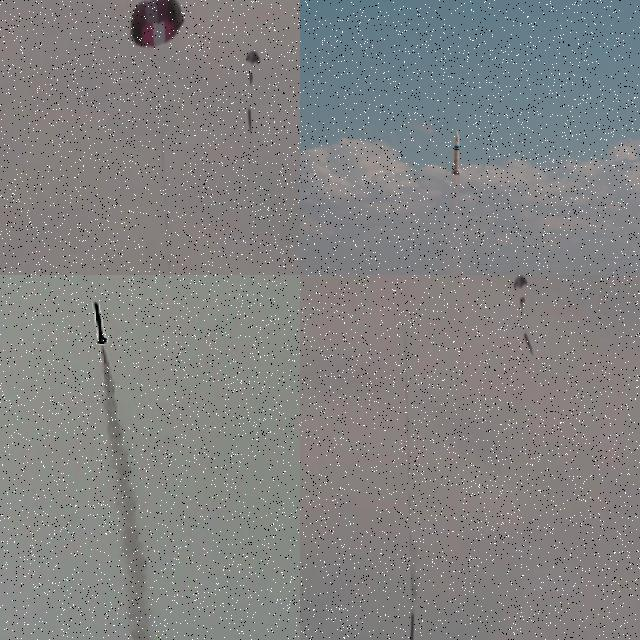Rocket: (446, 130, 467, 176), (92, 300, 109, 344), (409, 609, 417, 640)
